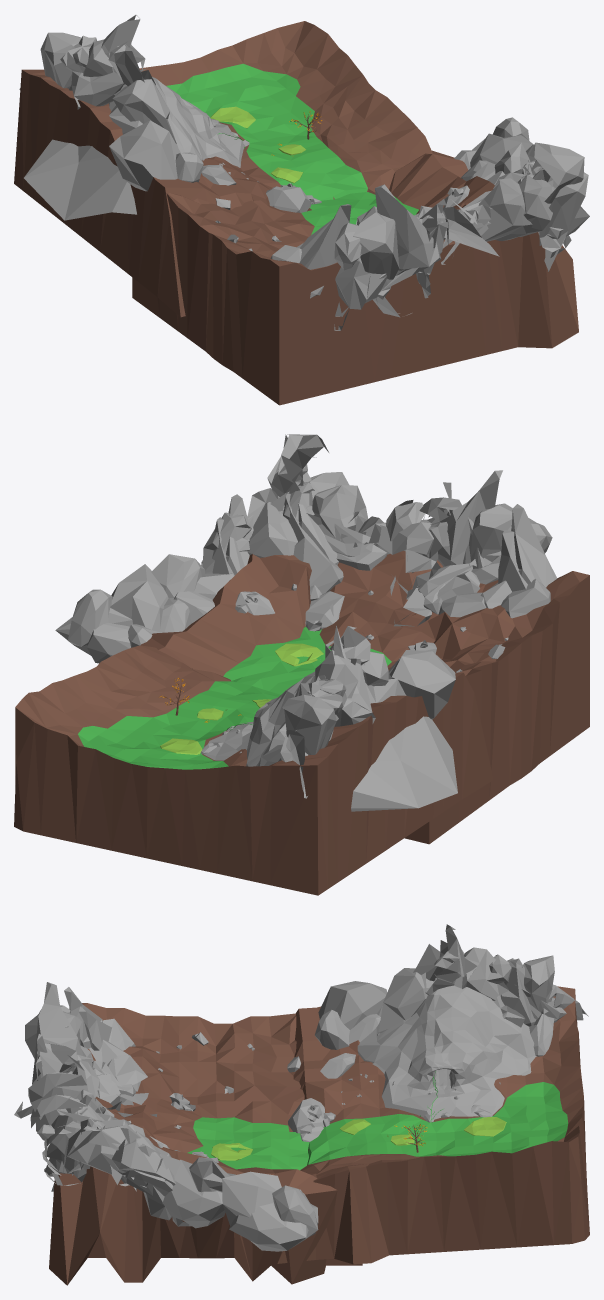
Rendered from Map.glb.
The picture shows the model from 3 angles, top to bottom: view 1: azimuth 30°, elevation 25°; view 2: azimuth 150°, elevation 25°; view 3: azimuth 270°, elevation 25°; orthographic projection. The views are drawn at different scales.
Parts seen in each view (by area): view 1: Node; view 2: Node; view 3: Node.
Boxes of the visible parts, bbox=[...] form: Node: bbox=[14, 15, 589, 405]; Node: bbox=[14, 434, 589, 895]; Node: bbox=[14, 924, 589, 1285].
Size of the model in its own units: 8.26 by 4.61 by 9.82.
